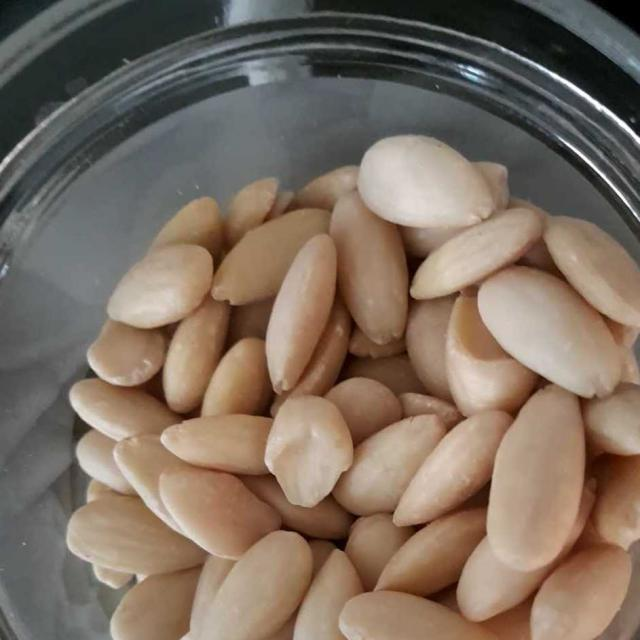almonds: (79, 137, 634, 632)
